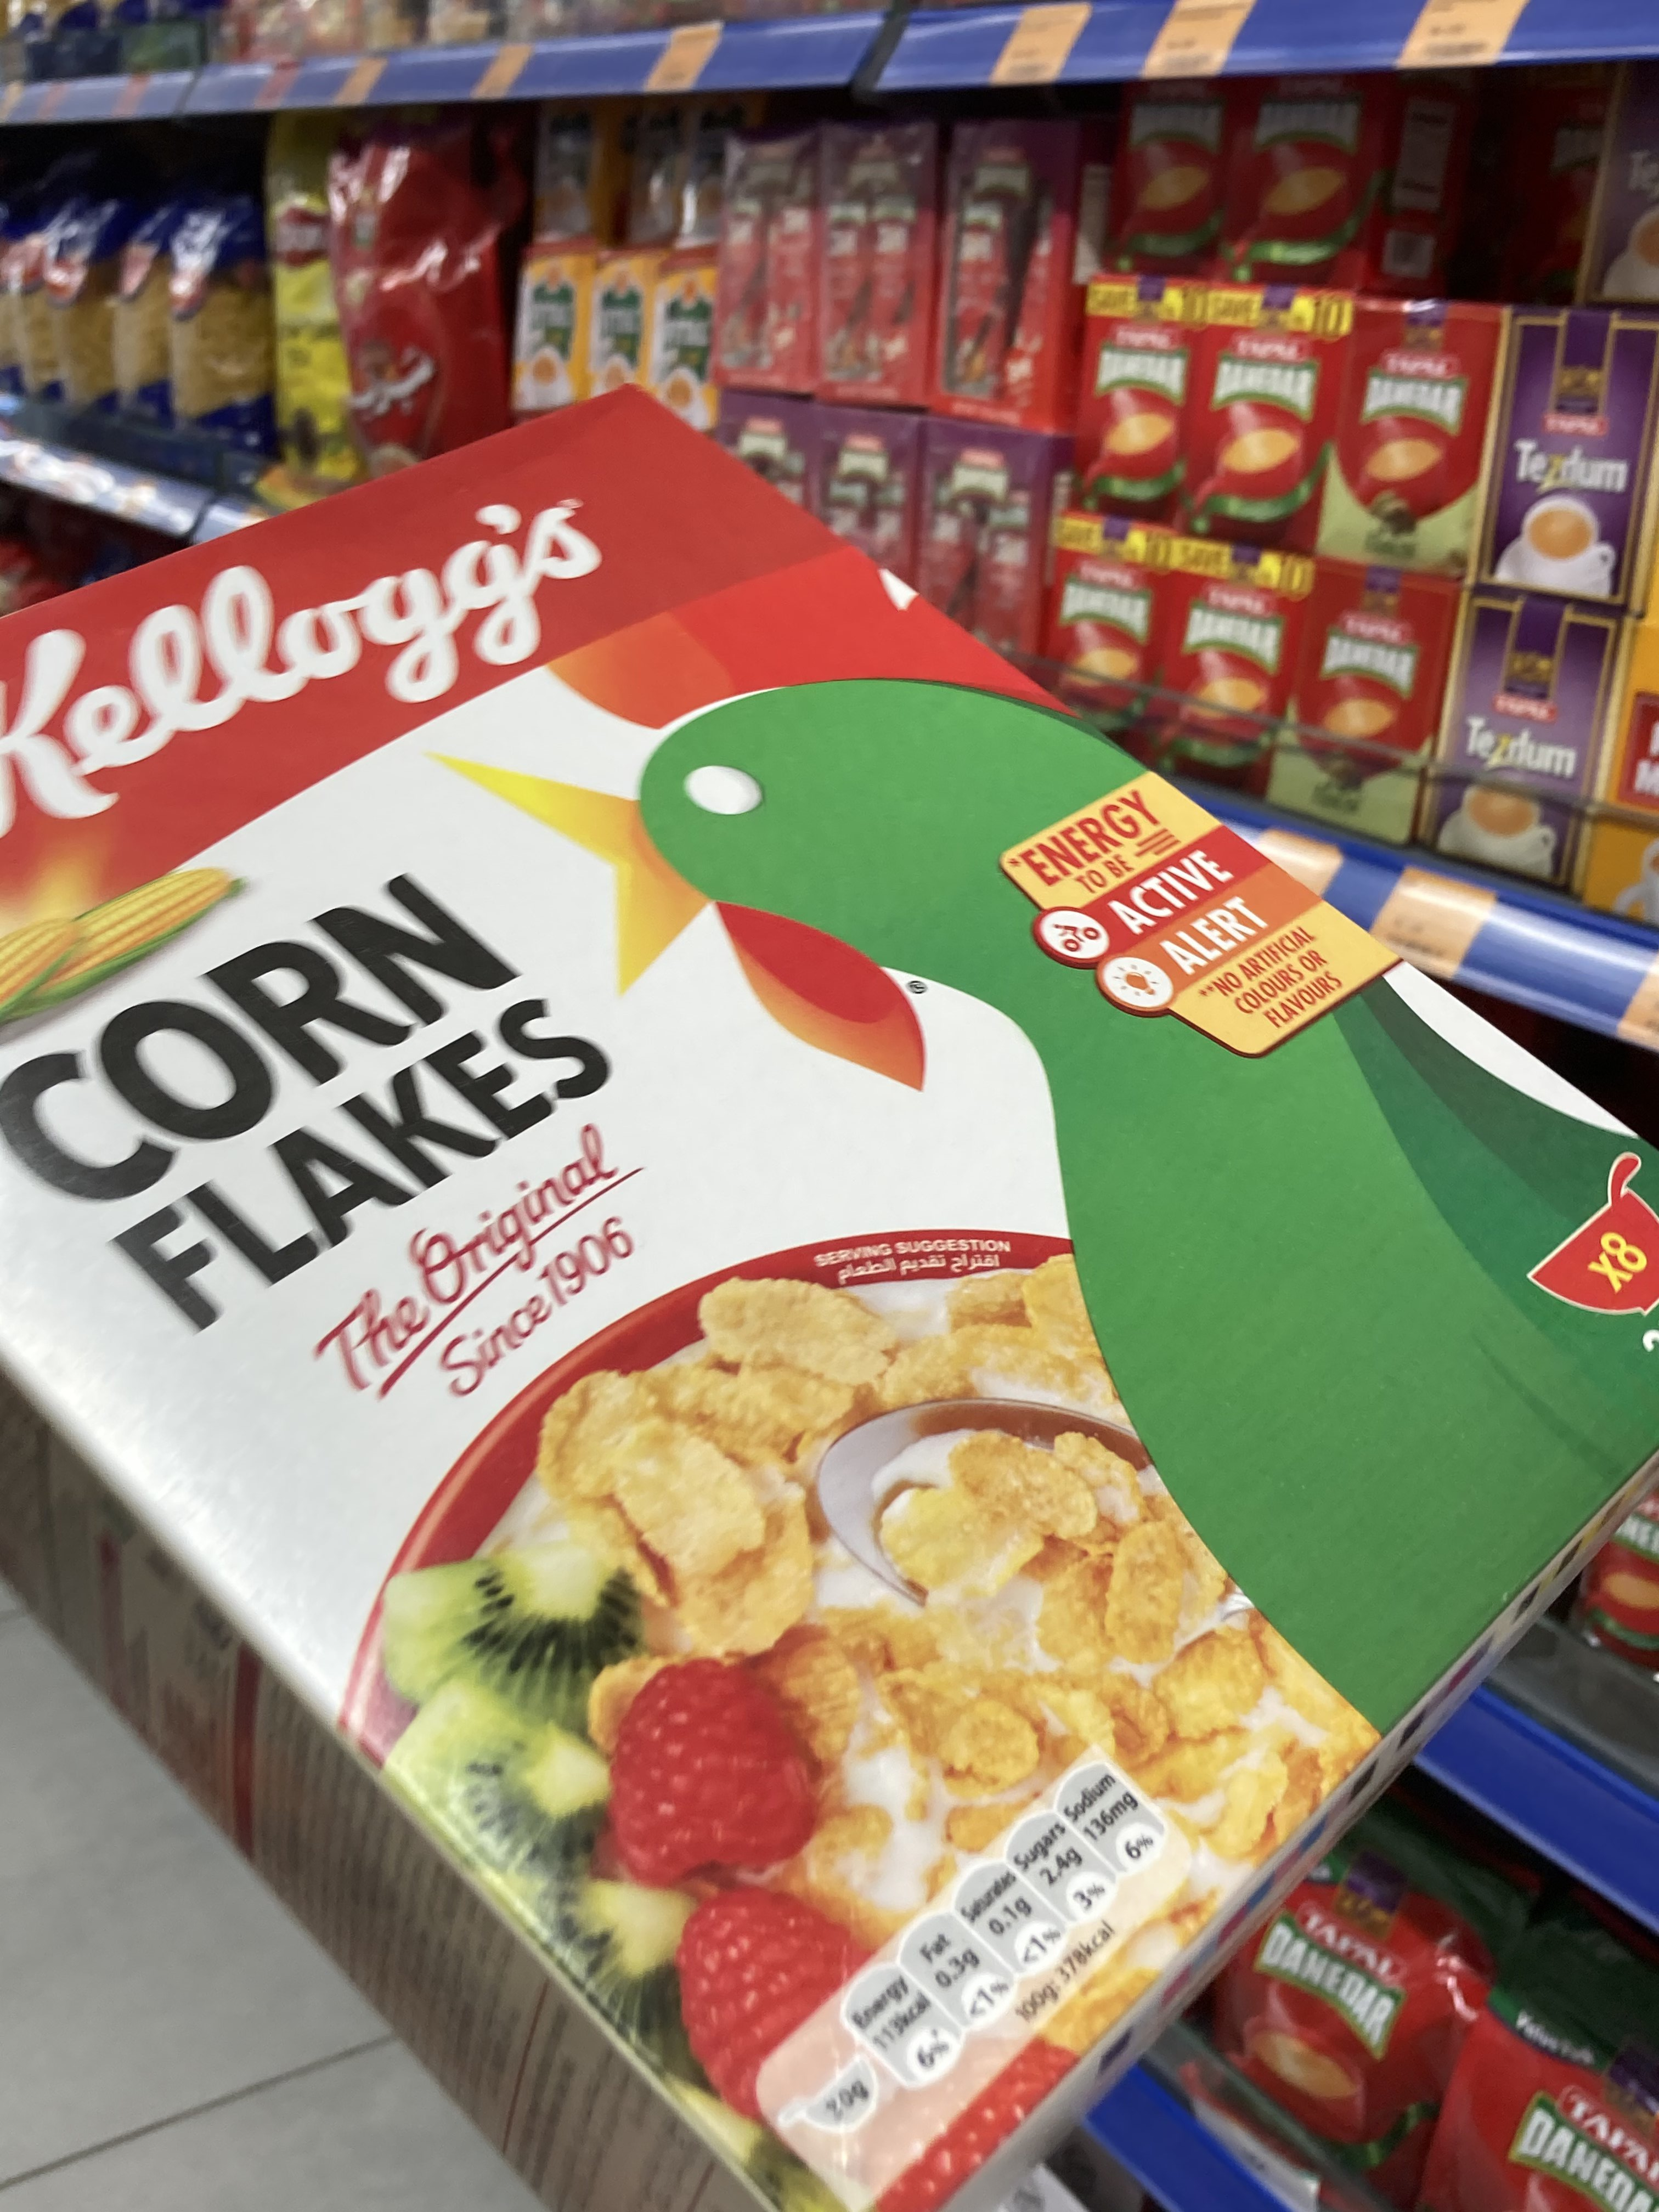Kellogg's Corn Flakes: (2, 376, 1659, 2212)
